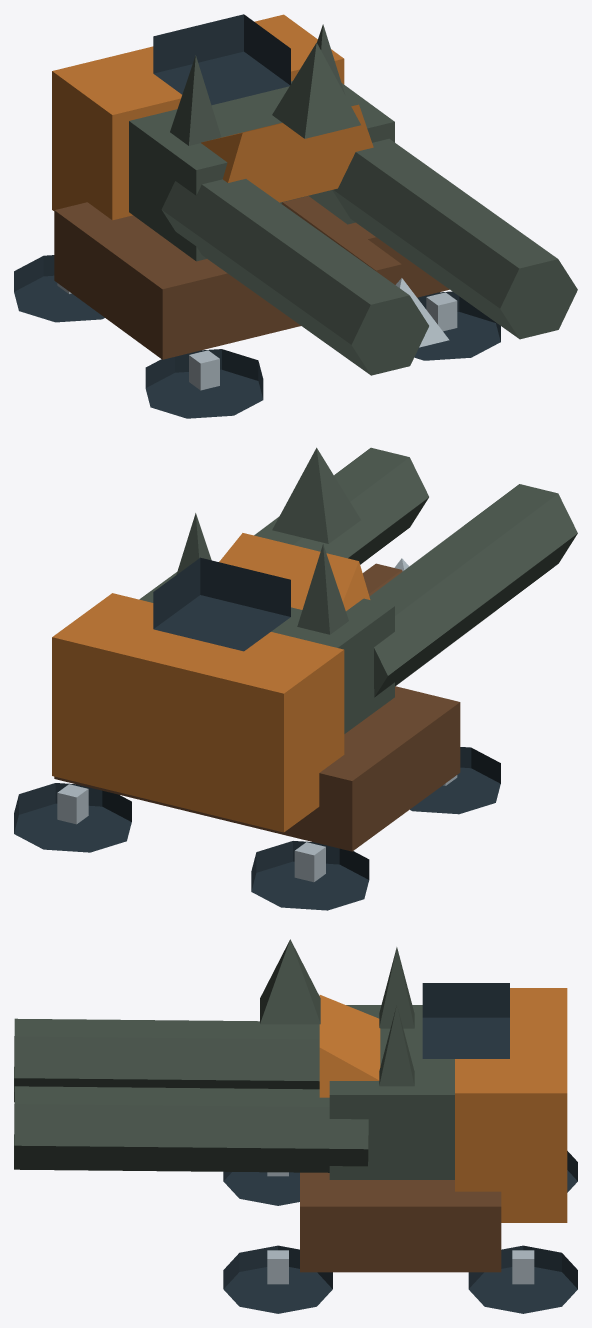
File: heavy-war-machine.obj
3 views of the same model, one above another, from view 1: azimuth 30°, elevation 25°; view 2: azimuth 150°, elevation 25°; view 3: azimuth 270°, elevation 25° (orthographic). The views are drawn at different scales.
Parts seen in each view (by area): view 1: siege; view 2: siege; view 3: siege.
Boxes of the visible parts, x1=… form: siege: x1=14, y1=14, x2=577, y2=418; siege: x1=14, y1=447, x2=577, y2=910; siege: x1=14, y1=939, x2=577, y2=1313.
Size of the model in its own units: 1.95 by 1.72 by 2.96.
